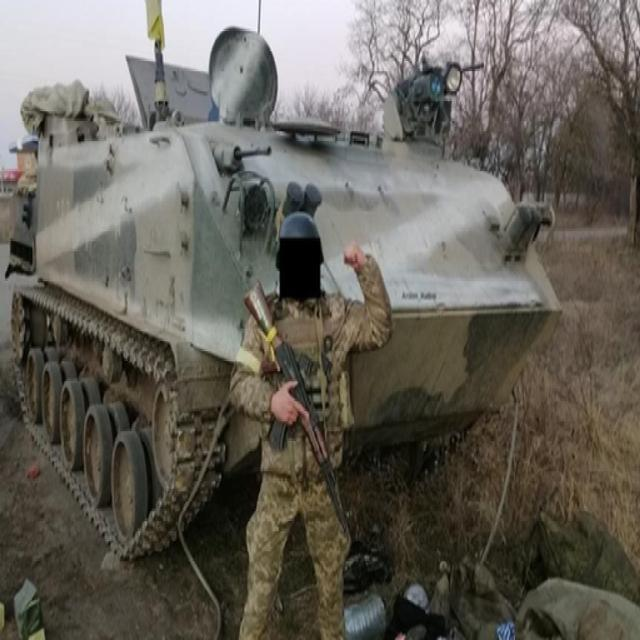APC-IFV: (2, 58, 572, 573)
